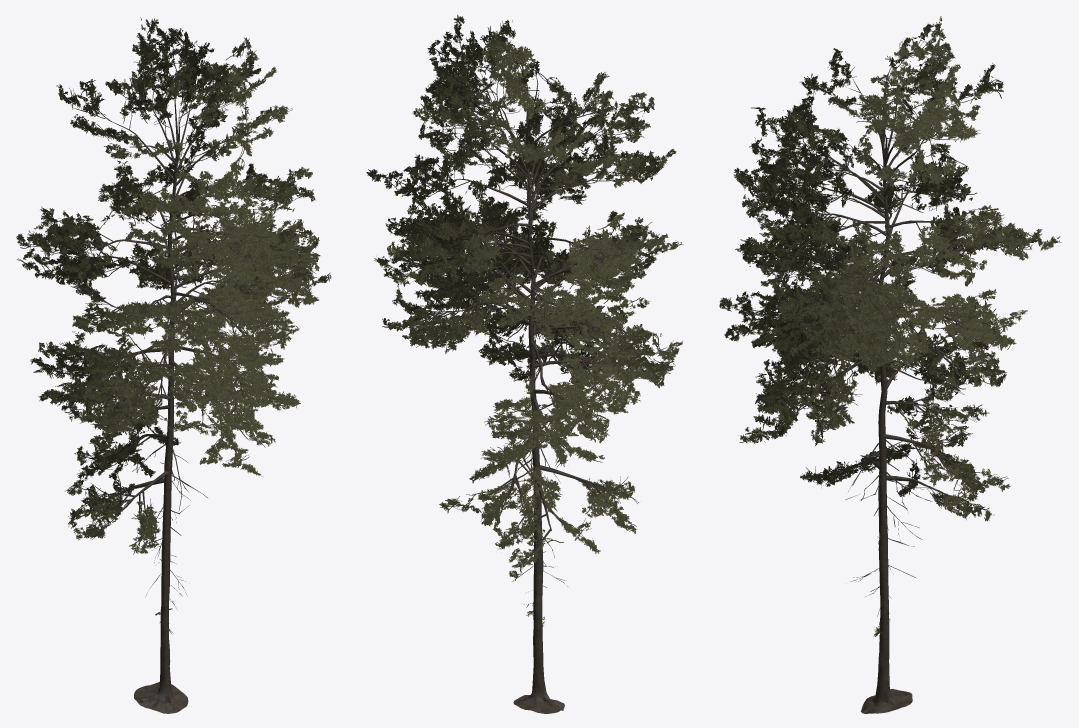
The picture shows the model from 3 angles, left to right: view 1: azimuth 30°, elevation 25°; view 2: azimuth 150°, elevation 25°; view 3: azimuth 270°, elevation 25°; orthographic projection. The views are drawn at different scales.
Parts seen in each view (by area): view 1: pine_tree_01__c_lod0; view 2: pine_tree_01__c_lod0; view 3: pine_tree_01__c_lod0.
Part boxes in pixels (x1=…): pine_tree_01__c_lod0: x1=16, y1=17, x2=331, y2=713; pine_tree_01__c_lod0: x1=366, y1=14, x2=683, y2=713; pine_tree_01__c_lod0: x1=719, y1=16, x2=1061, y2=713.
Size of the model in its own units: 7.7 by 17.57 by 7.94.
Materials: 2 (2 with a texture image).
